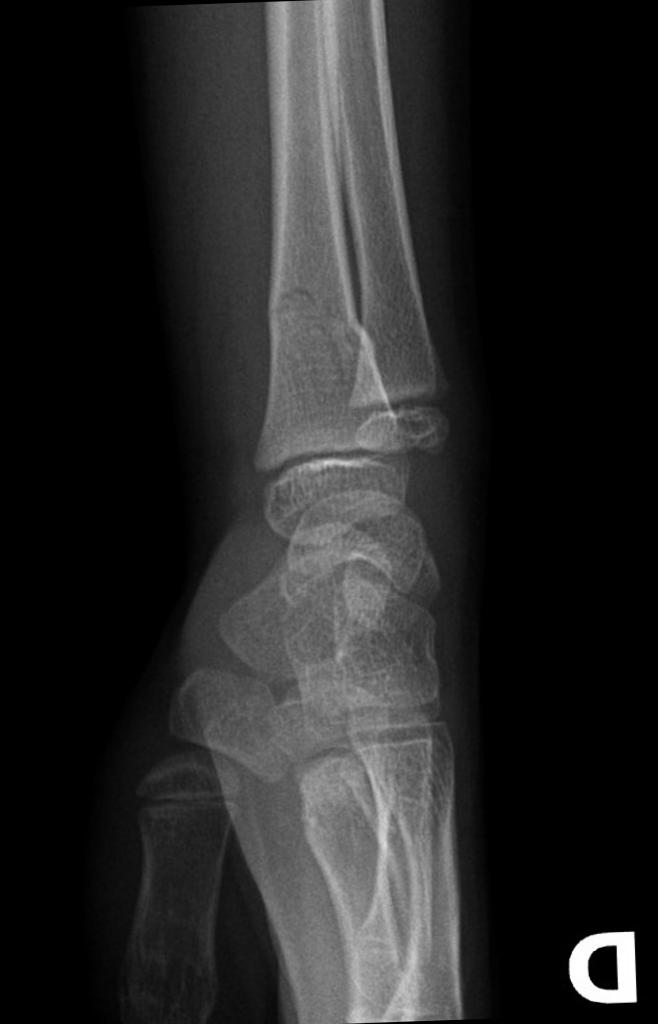line: (267, 284, 373, 349)
